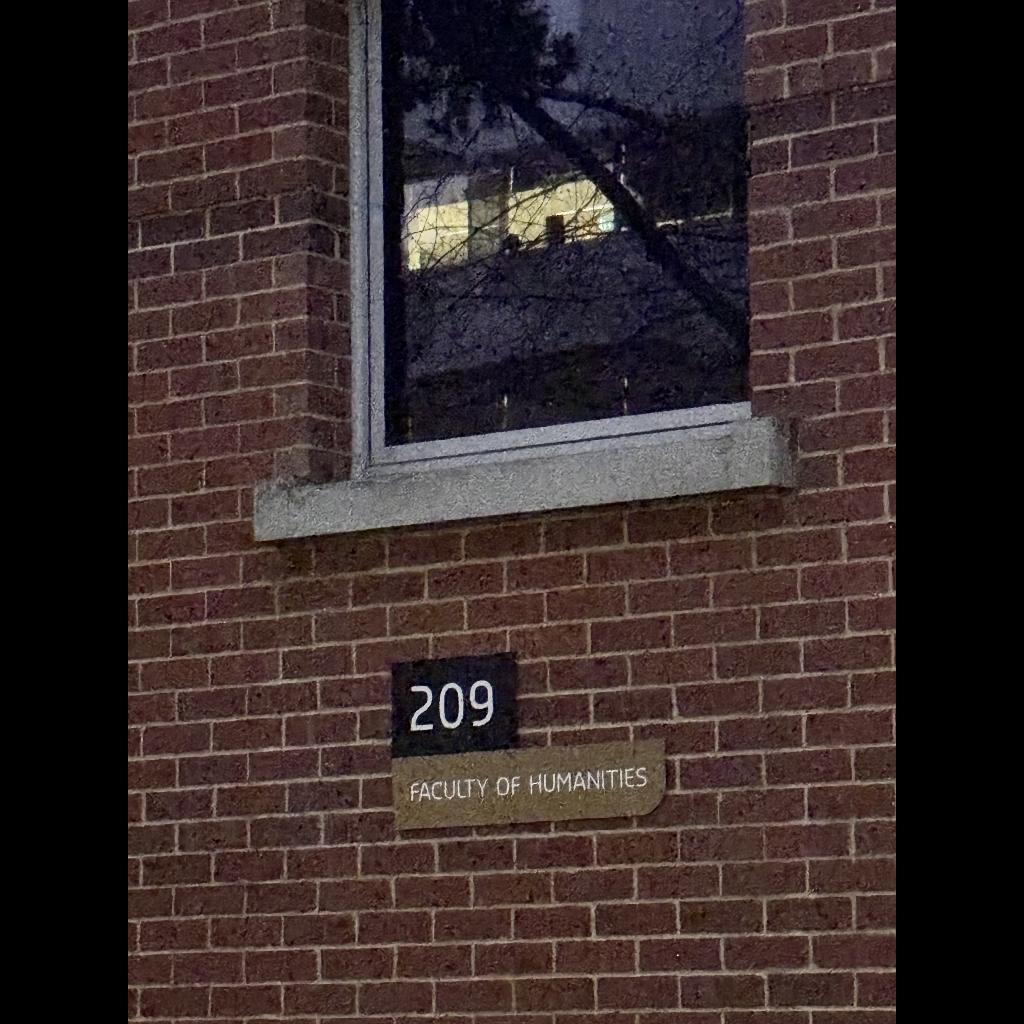BuildingCodes: (407, 676, 497, 734)
